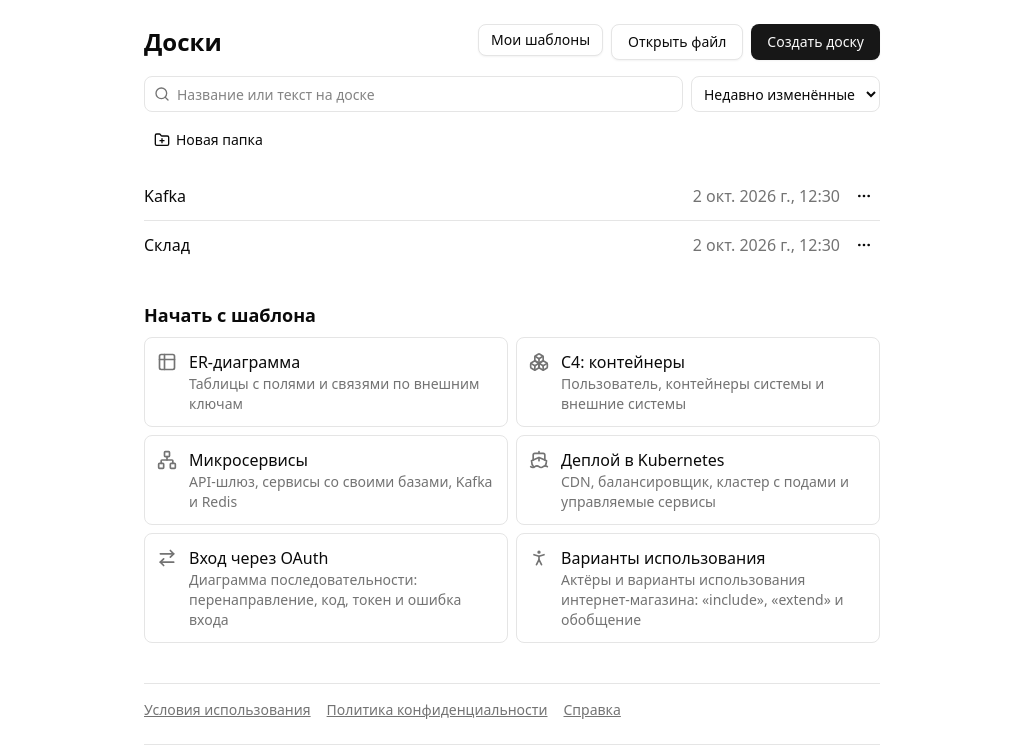
Test: BoardsPage search › keeps the boards found by title when the text cannot be searched
This screenshot has width=1024, height=745.
Type "kafka" into the search field named "Поиск досок". click: coordinates (414, 94)
box: [144,76,683,112]
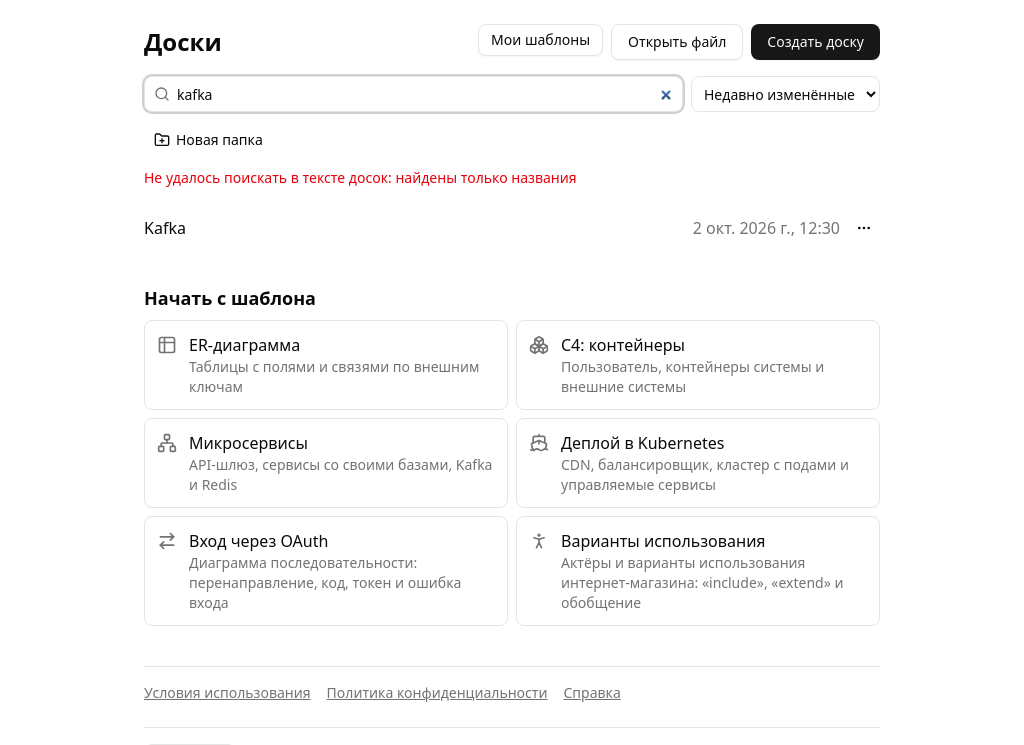
Expected: the message shows "Не удалось поискать в тексте досок", [144,168,577,187]
